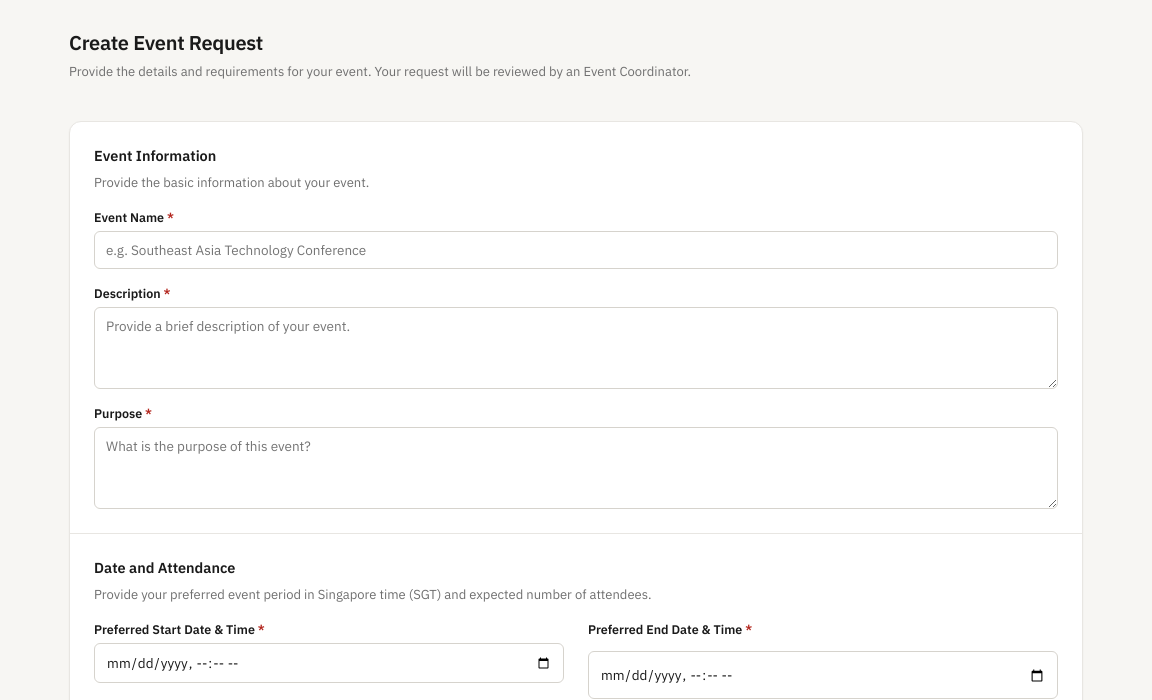
Test: event request submission › AC1: saves partial details as a draft without requiring the other fields
Type "Community Workshop" into the field labelled "Event Name *" at (576, 250), box [94,231,1058,269]
(page scrolled)
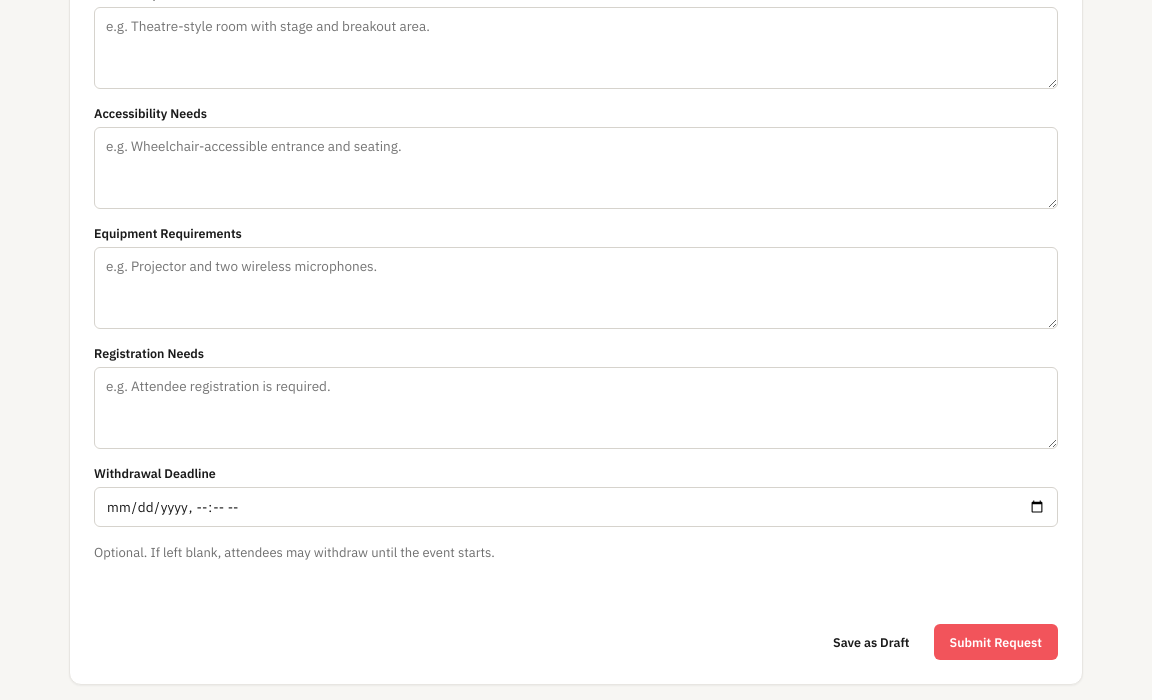
Click the button "Save as Draft" at (871, 642), box [817,624,926,660]
(page scrolled)
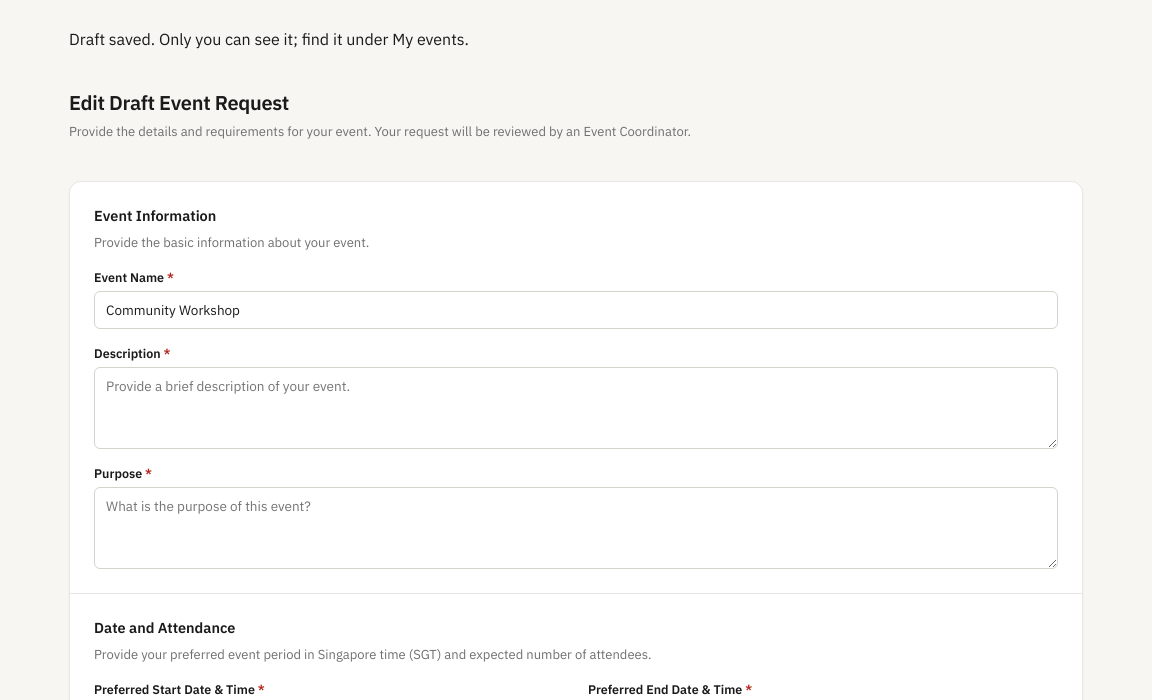
Check: the text "Draft saved. Only you can see it; find it under My events." is shown, box [69,29,469,49]
